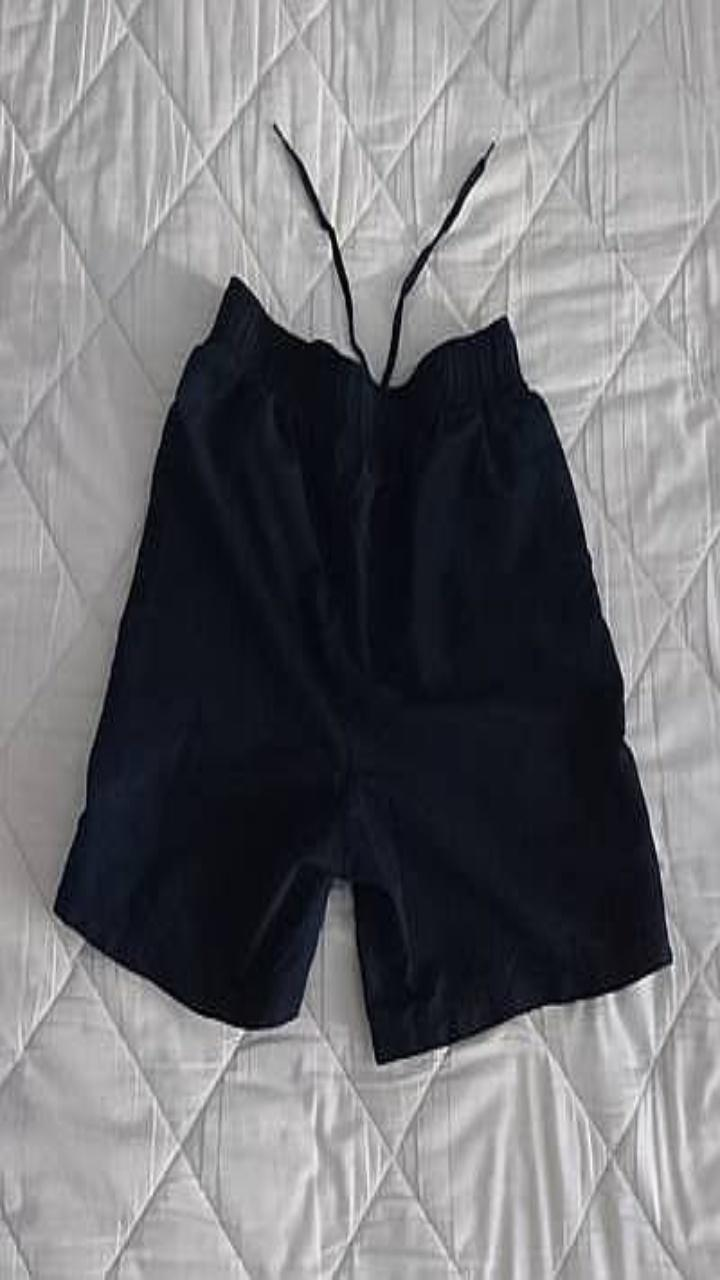Shorts: (54, 276, 672, 1062)
